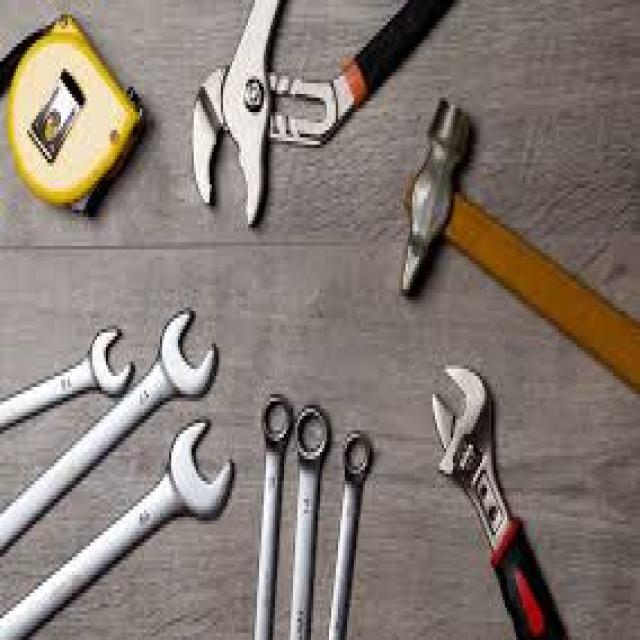hammer: (402, 103, 640, 390)
ring_spanner: (254, 395, 330, 639), (329, 431, 372, 639)
spanner: (1, 314, 216, 551), (0, 422, 232, 638), (1, 331, 134, 428)
wrench: (192, 0, 452, 224), (432, 367, 566, 639)
